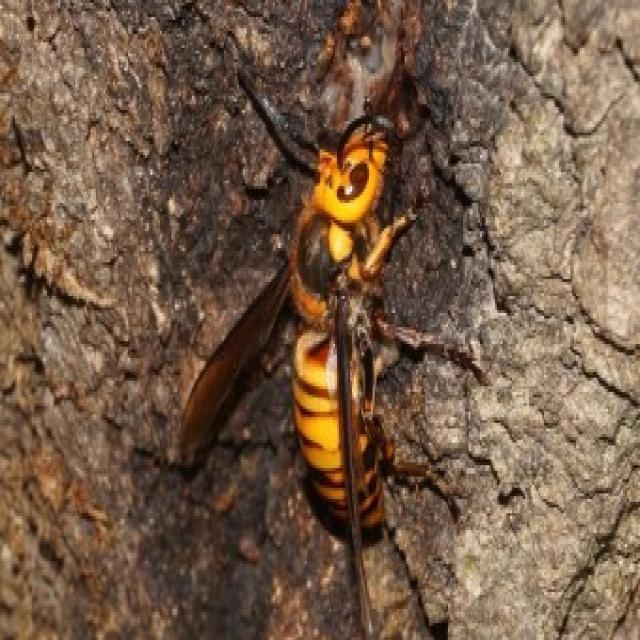Wasp: (259, 123, 418, 536)
